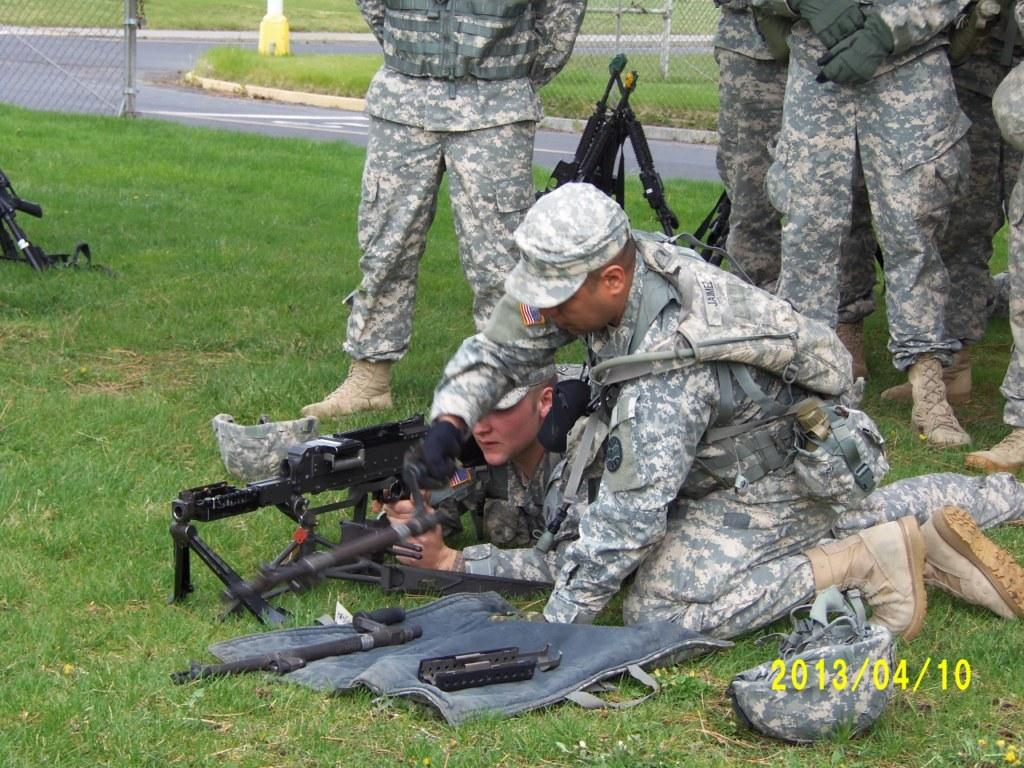Rifle: (178, 414, 493, 601)
